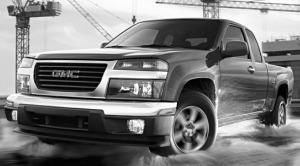car: (3, 18, 295, 159)
